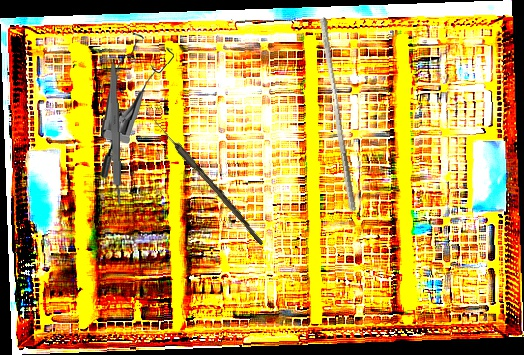Pusher: (311, 16, 365, 213)
Scalpel Handle: (106, 59, 123, 205)
Speculum: (99, 30, 175, 182)
Surgical Spoon: (142, 108, 267, 246)
